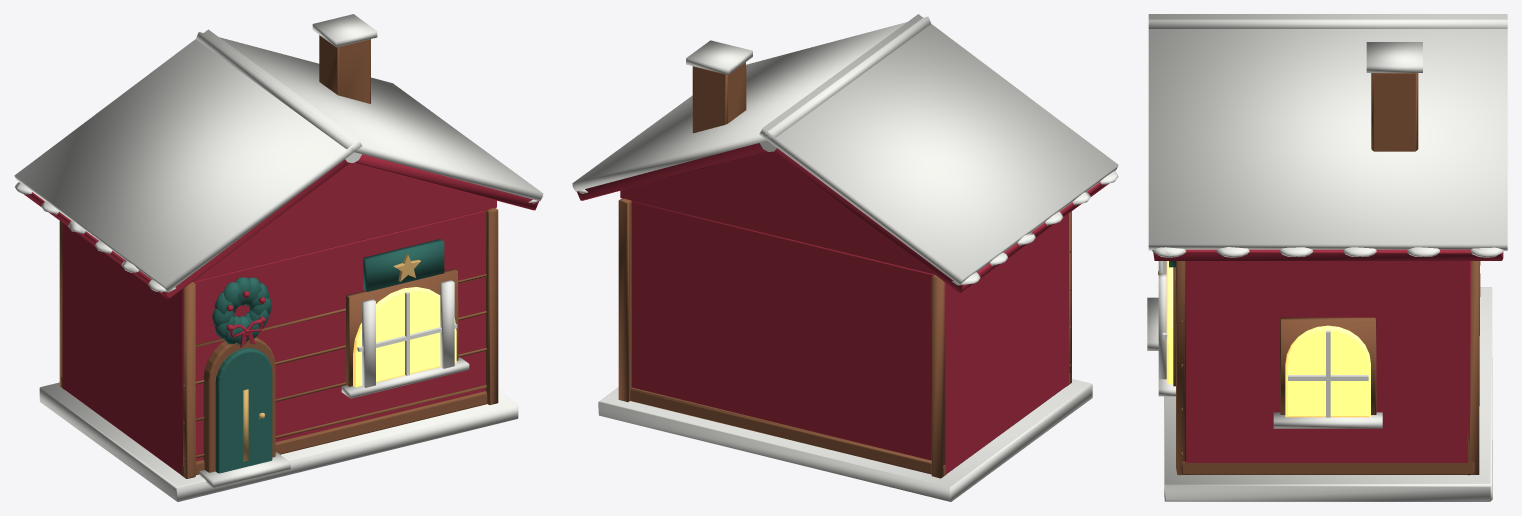
File: workshop.glb
3 views of the same model, side by side, from view 1: azimuth 30°, elevation 25°; view 2: azimuth 150°, elevation 25°; view 3: azimuth 270°, elevation 25° (orthographic). The views are drawn at different scales.
Parts seen in each view (by area): view 1: cream, berry, oak, pine, light, brass; view 2: berry, cream, oak; view 3: cream, berry, oak, light.
Boxes of the visible parts, box(x1,y1,x2,y2) form: cream: box(14, 14, 543, 501); berry: box(24, 154, 538, 475); oak: box(59, 35, 498, 478); pine: box(212, 239, 444, 473); light: box(353, 287, 456, 387); brass: box(243, 253, 420, 461); berry: box(576, 143, 1108, 474); cream: box(572, 14, 1118, 501); oak: box(618, 62, 1071, 478); cream: box(1147, 14, 1507, 501); berry: box(1153, 249, 1503, 462); oak: box(1173, 73, 1480, 475); light: box(1166, 261, 1370, 417).
Bounding box in the file's own units: 3.99 × 3.31 × 2.68.
